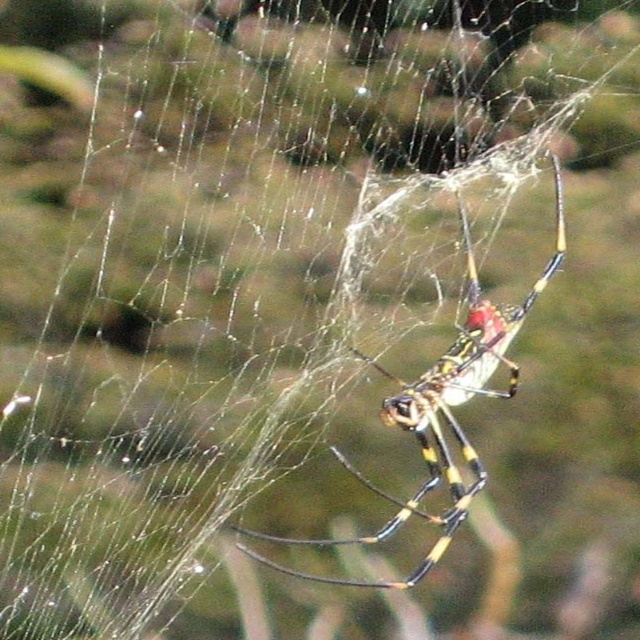Spider: (230, 154, 568, 590)
